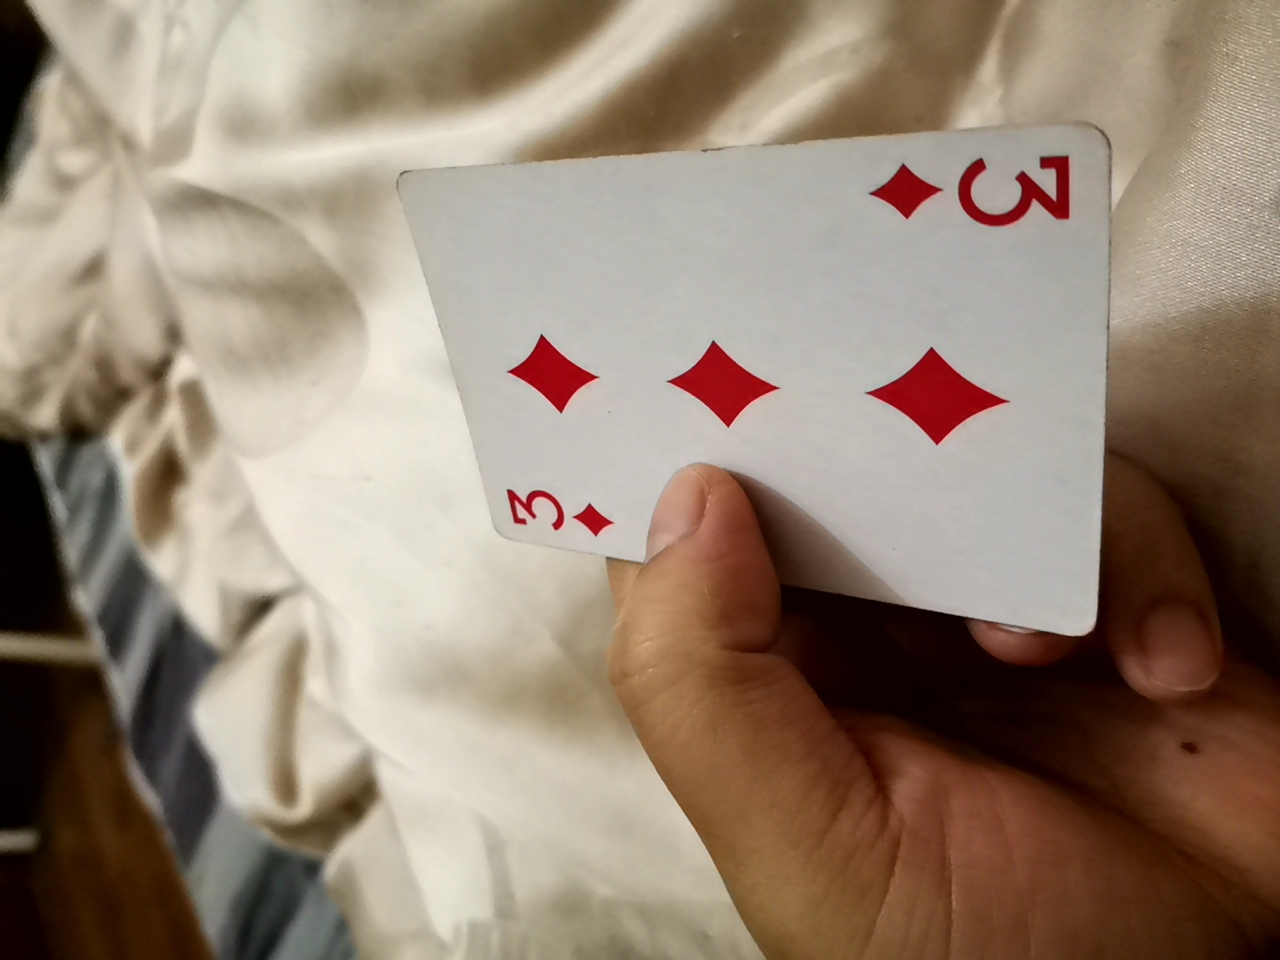fk 3: (414, 107, 1111, 654)
